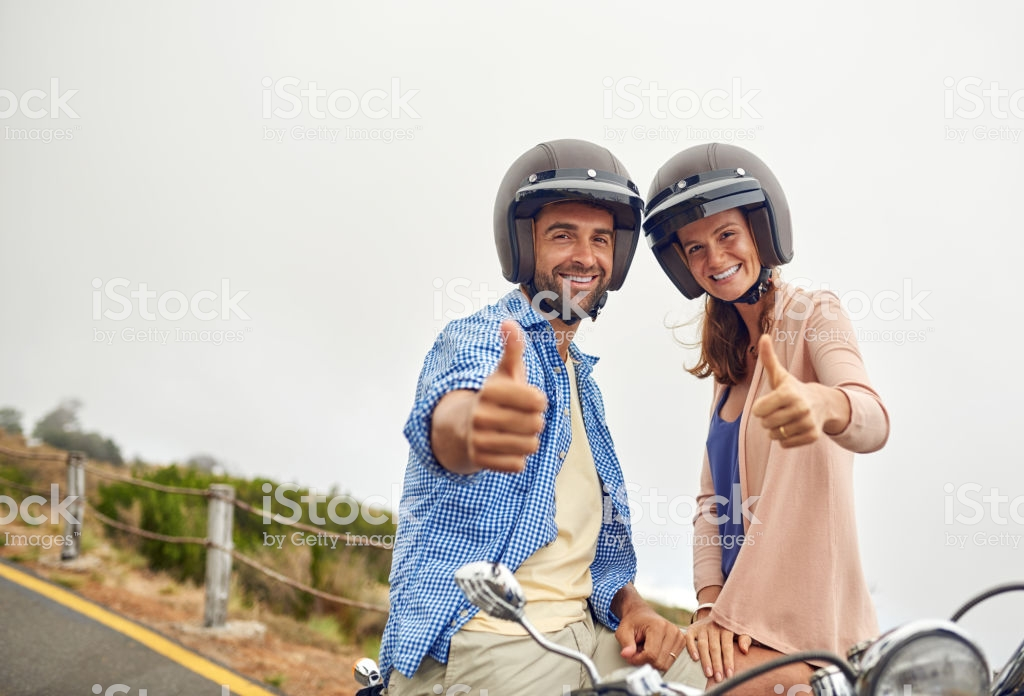helmet: (632, 130, 806, 286), (475, 144, 650, 293)
